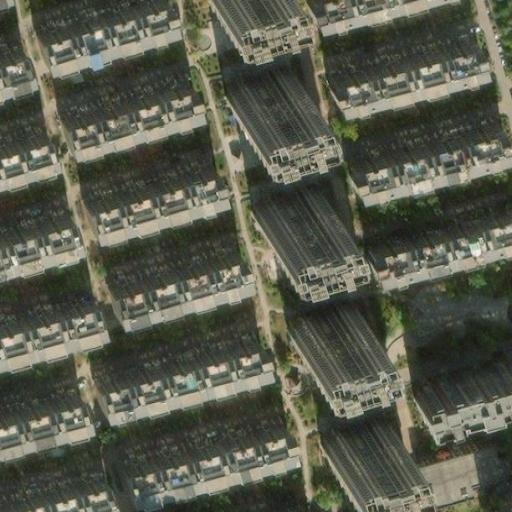building: (87, 332, 257, 406), (116, 420, 286, 493), (337, 110, 497, 181), (322, 26, 474, 99), (363, 204, 512, 277), (79, 166, 222, 239), (56, 81, 195, 150), (98, 245, 238, 313), (31, 0, 168, 61), (413, 435, 509, 509), (404, 350, 512, 411), (0, 293, 93, 352), (0, 385, 86, 439), (243, 177, 323, 229), (0, 205, 76, 259), (0, 475, 107, 512), (281, 298, 358, 349), (217, 66, 293, 116), (311, 401, 385, 452), (0, 121, 46, 166)
